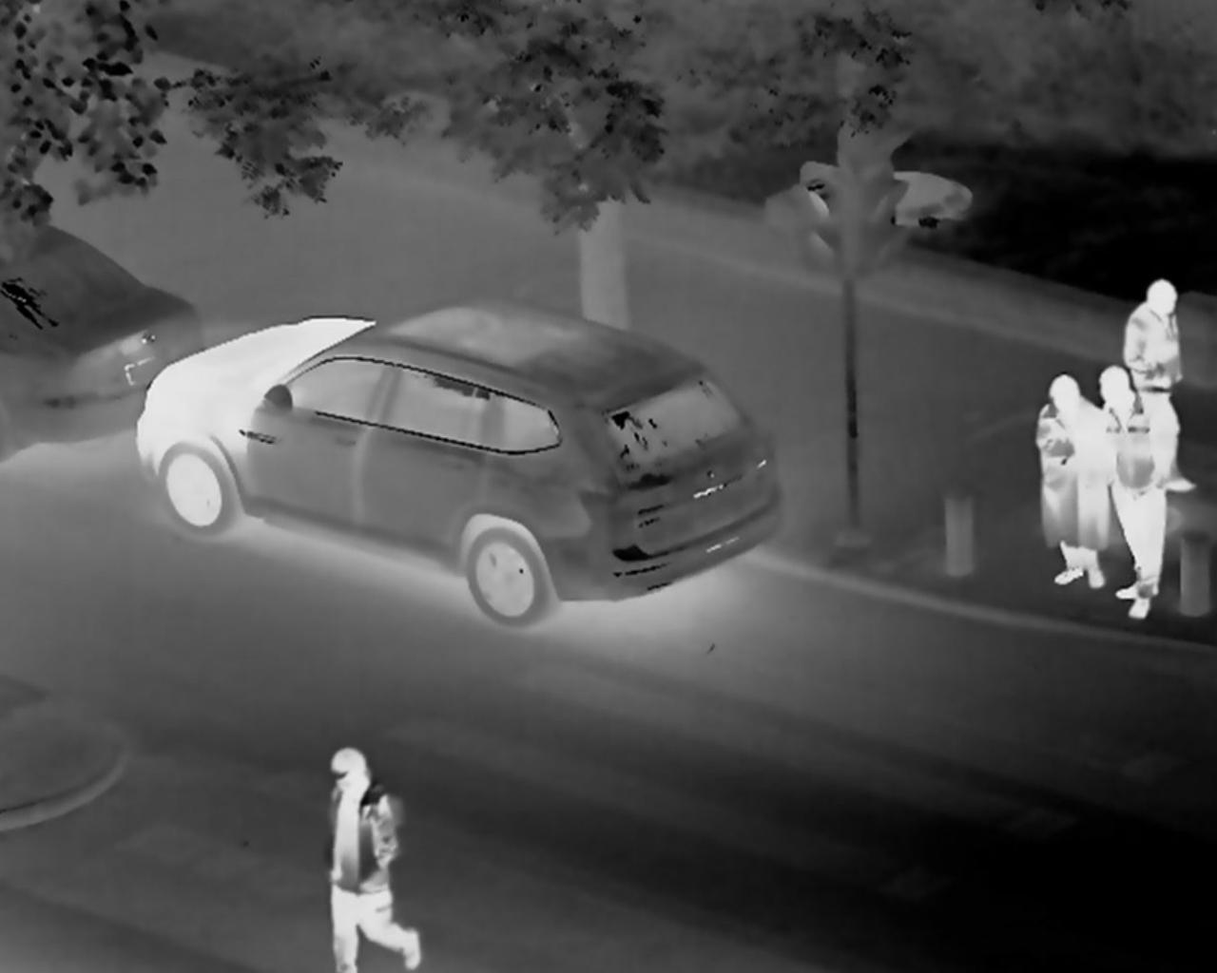person: (320, 734, 436, 973), (1099, 360, 1169, 623), (1025, 358, 1098, 601), (1123, 270, 1181, 372)
